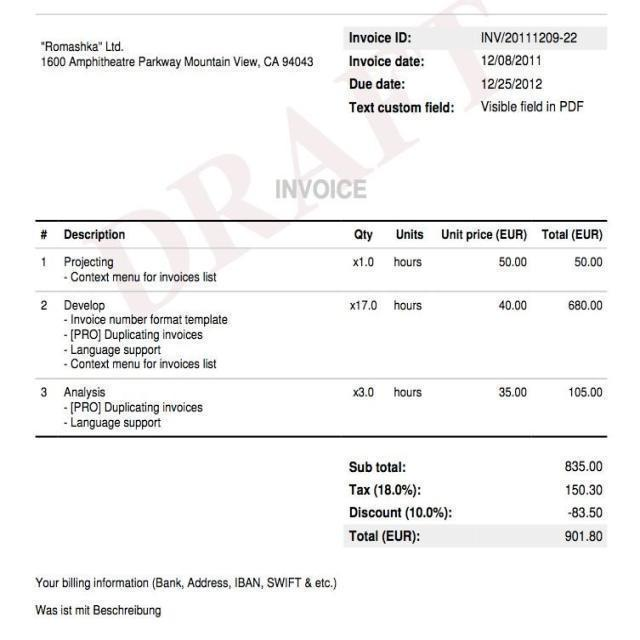ROI: (33, 216, 612, 441), (341, 452, 612, 548), (340, 21, 608, 115), (29, 571, 348, 620), (39, 34, 319, 70), (270, 171, 376, 207)
